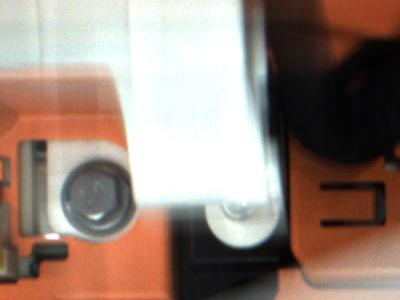nut_b: (54, 159, 137, 235)
